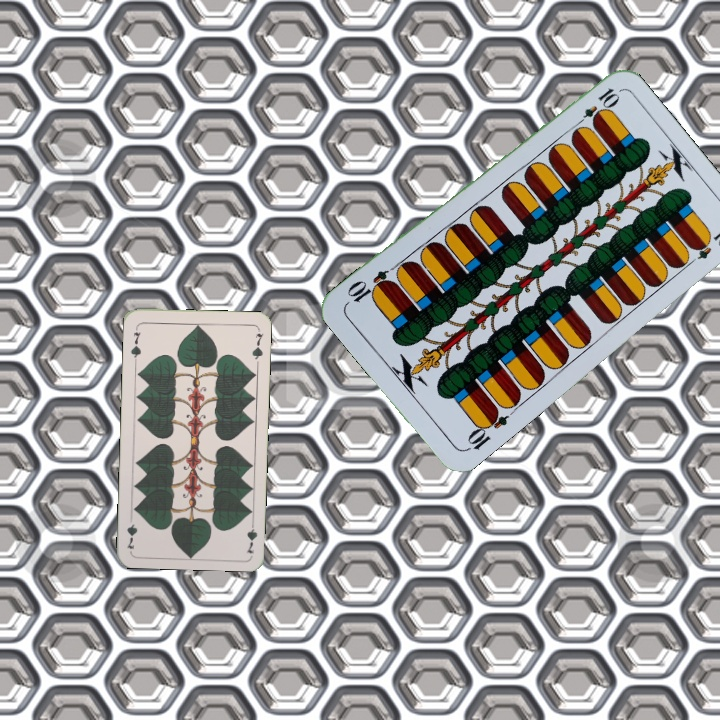E10: (461, 404, 511, 454), (571, 84, 622, 131)
G7: (242, 515, 260, 555), (127, 323, 144, 363)
